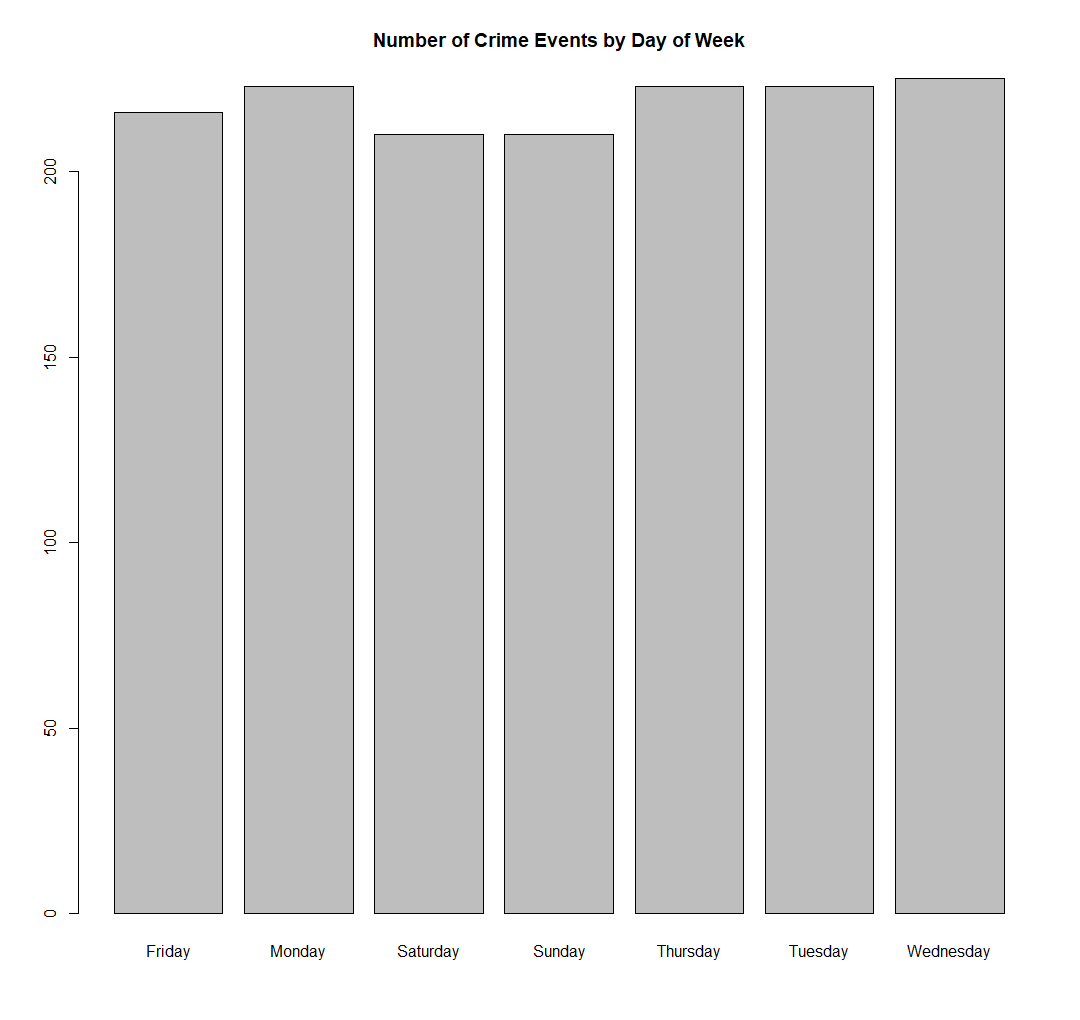

This screenshot's page, from the dashboard's own definition file:
{"tool":"tableau","page":{"name":"Dashboard 1","canvas":[1000,800],"ordinal":0},"visuals":[{"type":"worksheet","title":"Sheet 2","mark":"Bar","rows":["c_violation"],"cols":["j_finding","date2"],"box":[8,8,984,784]}]}

Visuals, with their boxes on the page's 1000x800 design canvas (x1, y1, x2, y2). These are canvas units, not pixel positions in the 1080x1020 screenshot, which may show the page scaled, cropped or inside an application window:
"Sheet 2" worksheet (Bar marks): 8 8 992 792
